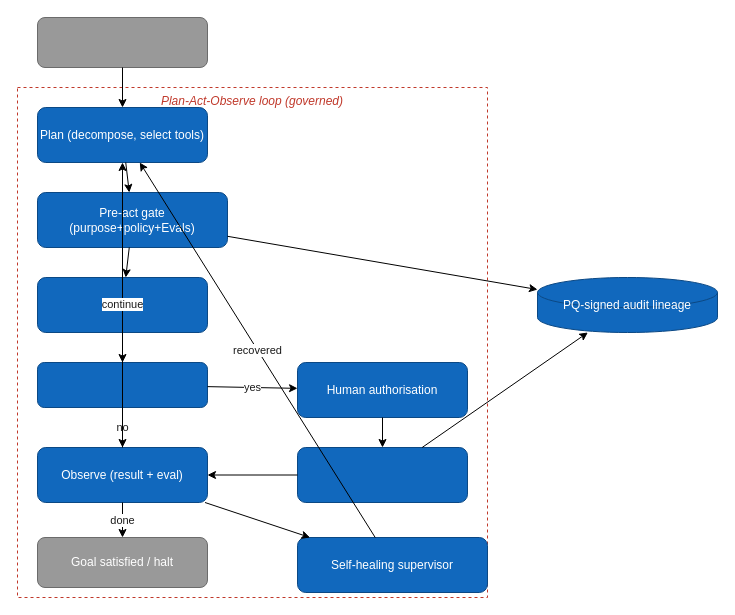
The diagram is 735 pixels wide and 615 high, and some of its shapes have lost their labels. Each missing label, with the box of its shape:
Act (call tool / propose action): (36, 276, 208, 332)
Agent goal / task: (36, 16, 208, 68)
Execute via Fabric action: (296, 446, 468, 502)
Mutates state?: (36, 362, 208, 408)
